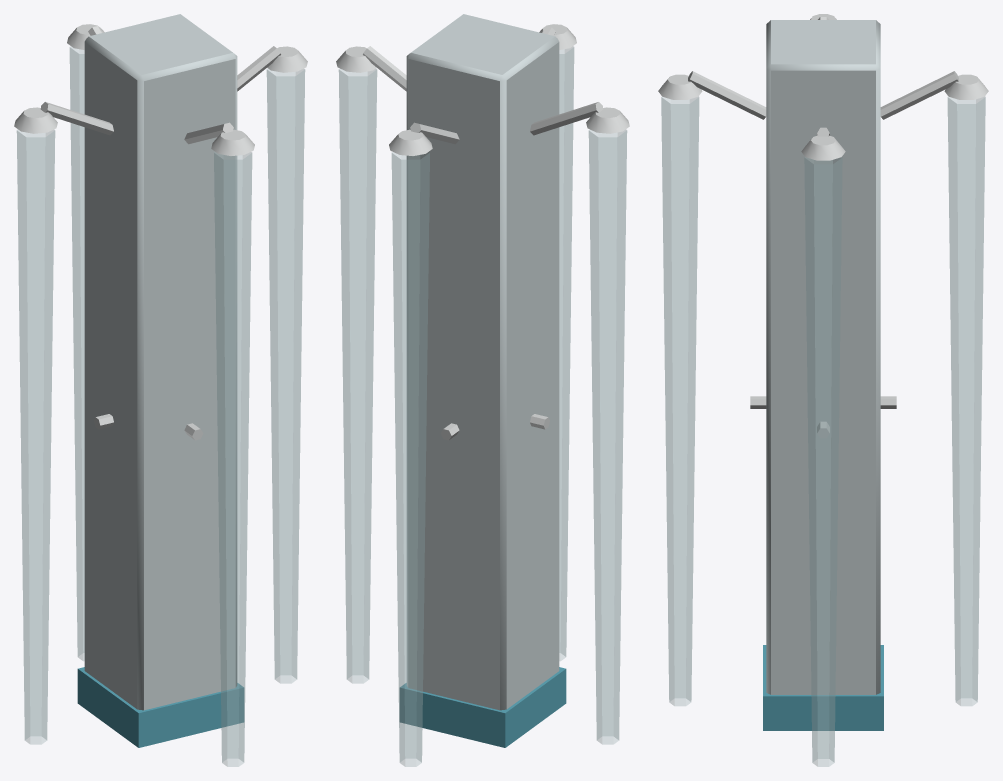
Rendered from shower_column.glb.
3 renders of one model, left to right at view 1: azimuth 30°, elevation 25°; view 2: azimuth 150°, elevation 25°; view 3: azimuth 270°, elevation 25°, orthographic.
Parts seen in each view (by area): view 1: ShowerColumn, ShowerStreams; view 2: ShowerColumn, ShowerStreams; view 3: ShowerColumn, ShowerStreams.
Boxes of the visible parts, left/top/right/bottom form: ShowerColumn: left=14, top=14, right=307, bottom=747; ShowerStreams: left=16, top=46, right=305, bottom=766; ShowerColumn: left=336, top=14, right=629, bottom=747; ShowerStreams: left=338, top=46, right=627, bottom=766; ShowerColumn: left=658, top=14, right=988, bottom=730; ShowerStreams: left=661, top=96, right=985, bottom=766.
Size of the model in its own units: 1.03 by 2.3 by 1.04.
